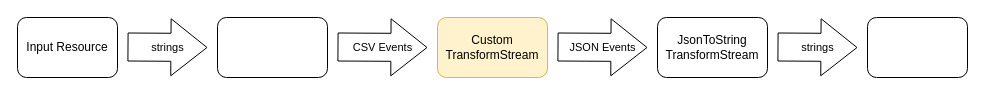
Some shapes in this 985 by 95 pixel diagram are drawn without their labels. The centre of each missing label's shape, as x and y in pixels:
"Output Resource" belongs at [917,47].
"StringToCsv TransformStream" belongs at [272,47].
